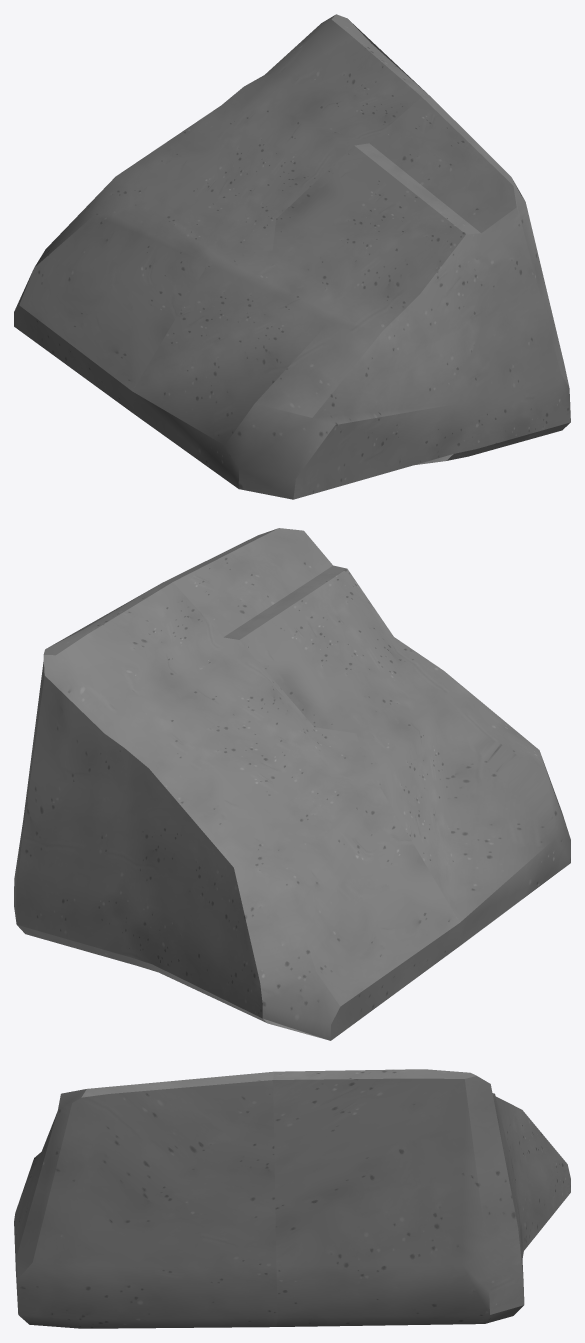
Rendered from Gray_Rock_05.fbx.
The picture shows the model from 3 angles, top to bottom: view 1: azimuth 30°, elevation 25°; view 2: azimuth 150°, elevation 25°; view 3: azimuth 270°, elevation 25°; orthographic projection. The views are drawn at different scales.
Parts seen in each view (by area): view 1: Gray_Rock_05; view 2: Gray_Rock_05; view 3: Gray_Rock_05.
Part boxes in pixels (x1,y1,x2,y2): Gray_Rock_05: (14, 14, 570, 499); Gray_Rock_05: (14, 528, 570, 1040); Gray_Rock_05: (14, 1069, 570, 1328).
Bounding box in the file's own units: 1.54 × 2.37 × 1.23.
